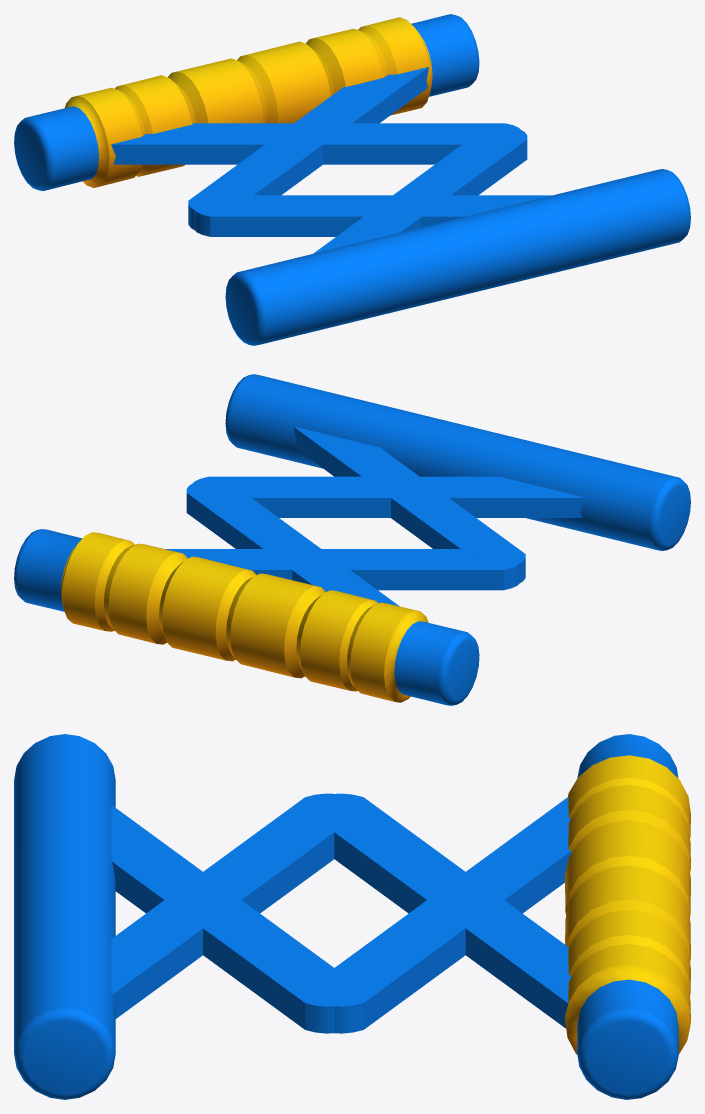
Rendered from weapon_2.fbx.
The picture shows the model from 3 angles, top to bottom: view 1: azimuth 30°, elevation 25°; view 2: azimuth 150°, elevation 25°; view 3: azimuth 270°, elevation 25°; orthographic projection. The views are drawn at different scales.
Parts seen in each view (by area): view 1: weapon_002, weapon_001, balka_right_01, balka_right_02, balka_left_01, balka_left_02; view 2: weapon_001, weapon_002, balka_left_02, balka_right_02, balka_left_01, balka_right_01; view 3: weapon_001, weapon_002, balka_left_02, balka_right_01, balka_left_01, balka_right_02.
Part boxes in pixels (<box>): weapon_002: <box>225,169,690,345</box>; weapon_001: <box>14,14,479,190</box>; balka_right_01: <box>111,123,520,164</box>; balka_right_02: <box>193,195,551,236</box>; balka_left_01: <box>188,67,428,229</box>; balka_left_02: <box>313,126,527,253</box>; weapon_001: <box>14,529,479,705</box>; weapon_002: <box>225,374,690,550</box>; balka_left_02: <box>191,476,585,517</box>; balka_right_02: <box>293,426,525,582</box>; balka_left_01: <box>165,549,519,590</box>; balka_right_01: <box>186,484,399,606</box>; weapon_001: <box>565,734,690,1099</box>; weapon_002: <box>14,734,115,1099</box>; balka_left_02: <box>111,805,362,1033</box>; balka_right_01: <box>334,797,571,1033</box>; balka_left_01: <box>334,793,571,1028</box>; balka_right_02: <box>111,793,362,1018</box>.
Bounding box in the file's own units: 33.27 × 6.29 × 33.81.
